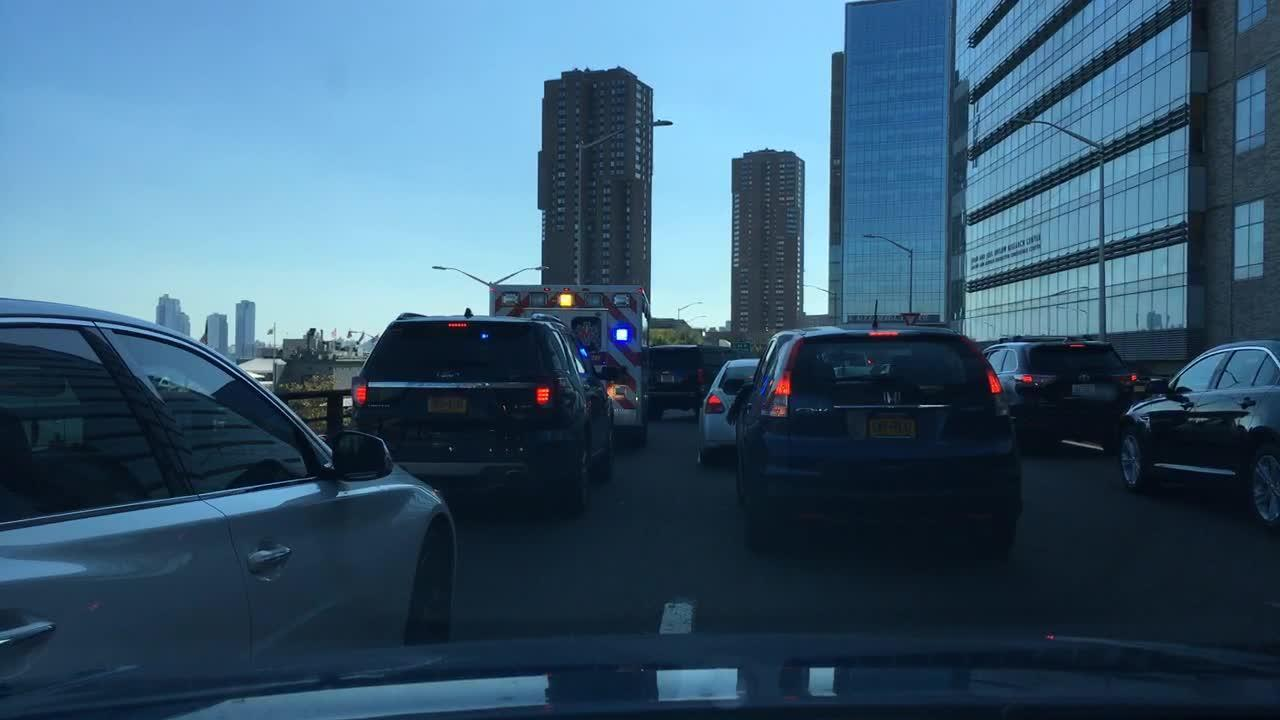Honda: (874, 388, 910, 409)
ford: (431, 367, 470, 385)
